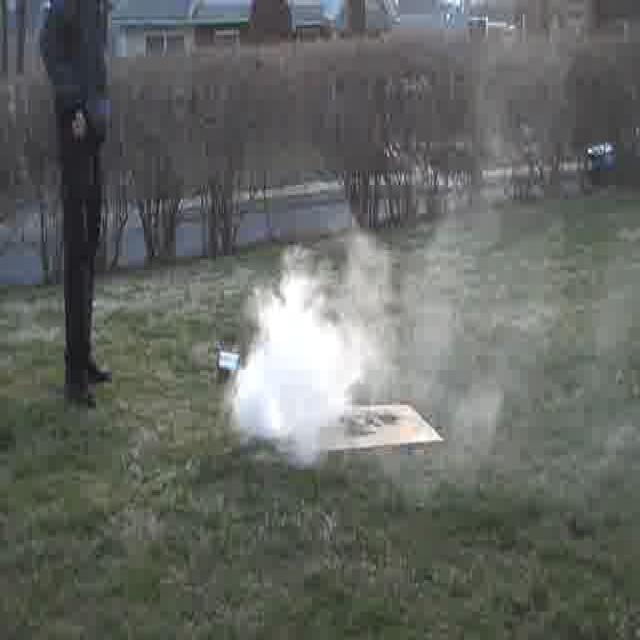Smoke: (238, 268, 400, 447)
